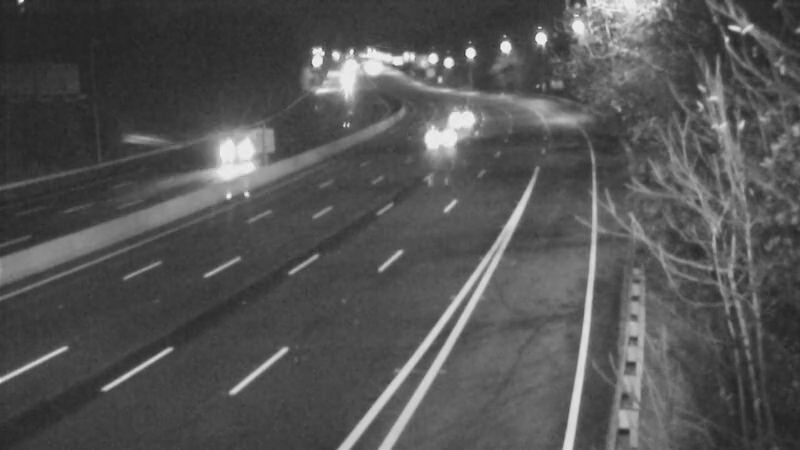vehicle: (430, 92, 480, 142), (418, 110, 468, 160), (211, 125, 261, 175)
